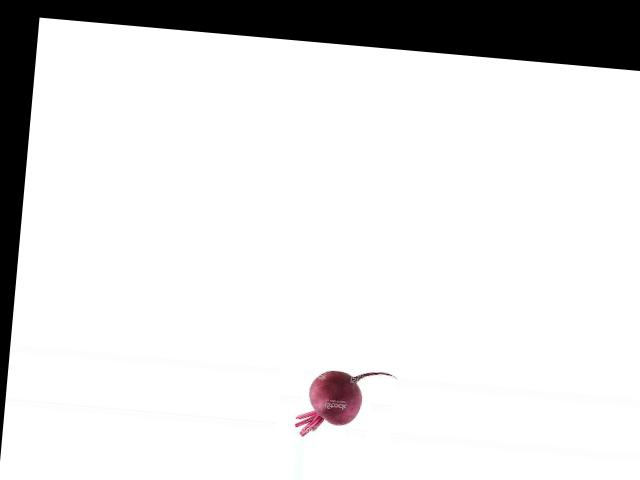beet: (294, 365, 397, 443)
